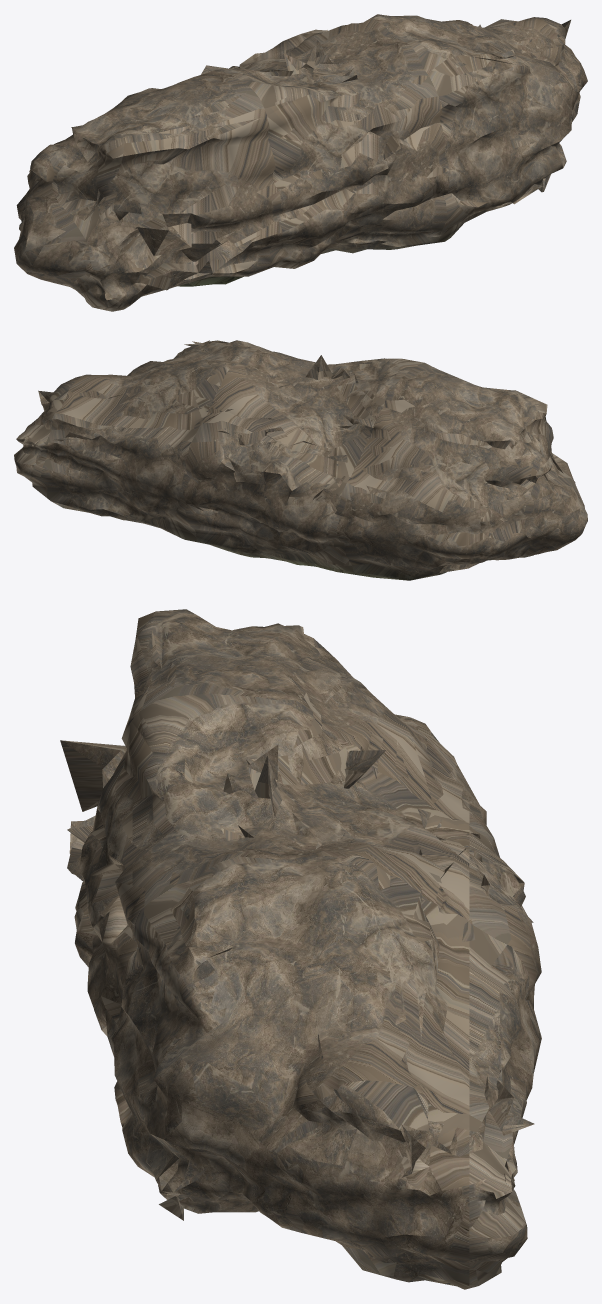
Rendered from coast_cliff_c.glb.
3 renders of one model, top to bottom at view 1: azimuth 30°, elevation 25°; view 2: azimuth 150°, elevation 25°; view 3: azimuth 270°, elevation 25°, orthographic. The views are drawn at different scales.
Visible parts, largest first — view 1: Cliff_Rock_Model; view 2: Cliff_Rock_Model; view 3: Cliff_Rock_Model.
Part boxes in pixels (x1,y1,x2,y2): Cliff_Rock_Model: (14,14,587,311); Cliff_Rock_Model: (14,340,587,580); Cliff_Rock_Model: (60,609,541,1289).
Bounding box in the file's own units: 8.34 × 2.88 × 3.43.
Materials: 1 (1 with a texture image).
